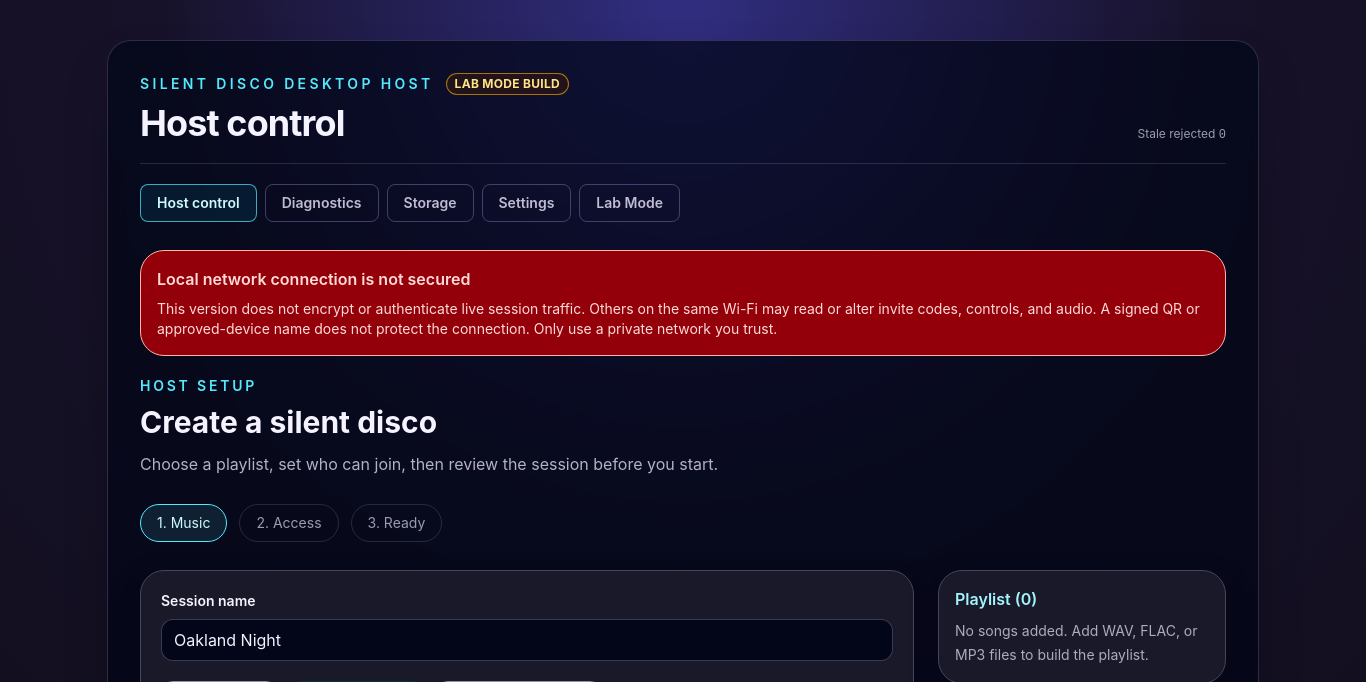
Test: App › reveals LabScreen content only after Lab Mode is available and requested
Expected: the text "developer testing tool" is not shown
Click the tab "Lab Mode" at (630, 203), box top-left (579, 184), bottom-right (680, 222)
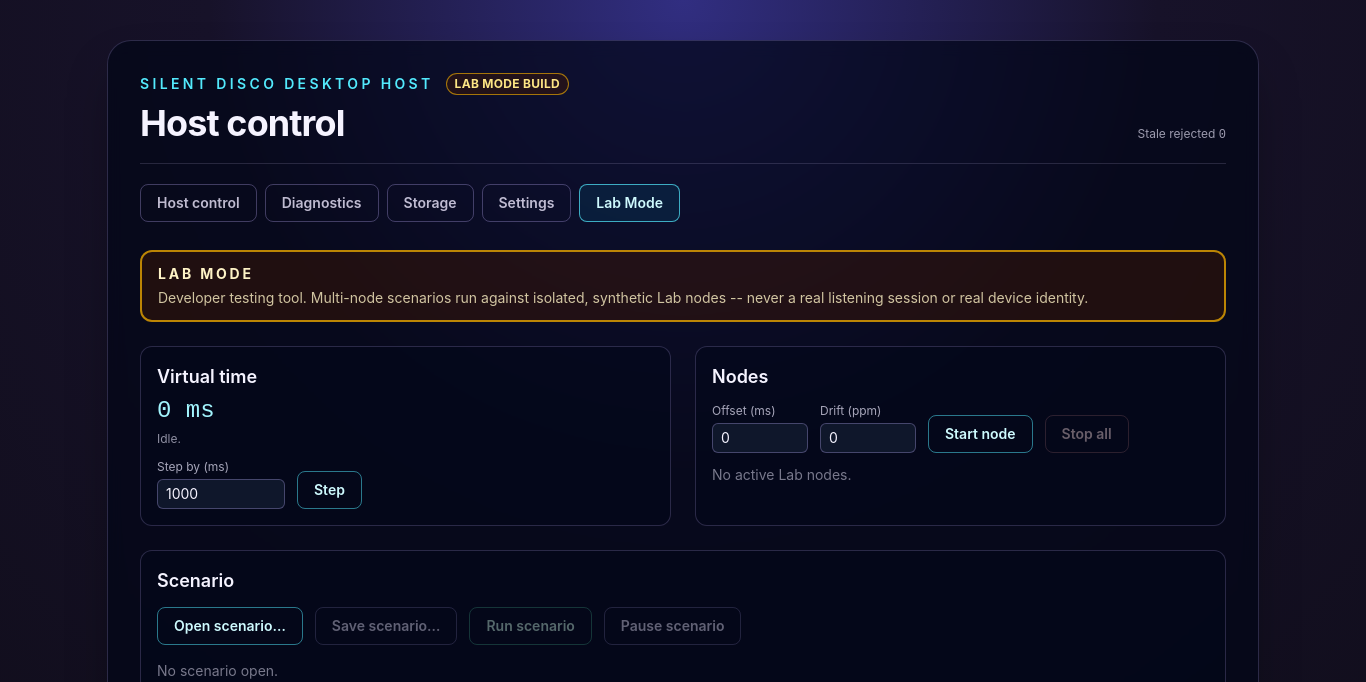
Result: the text "Developer testing tool" is shown at top-left (158, 289), bottom-right (1088, 306)
